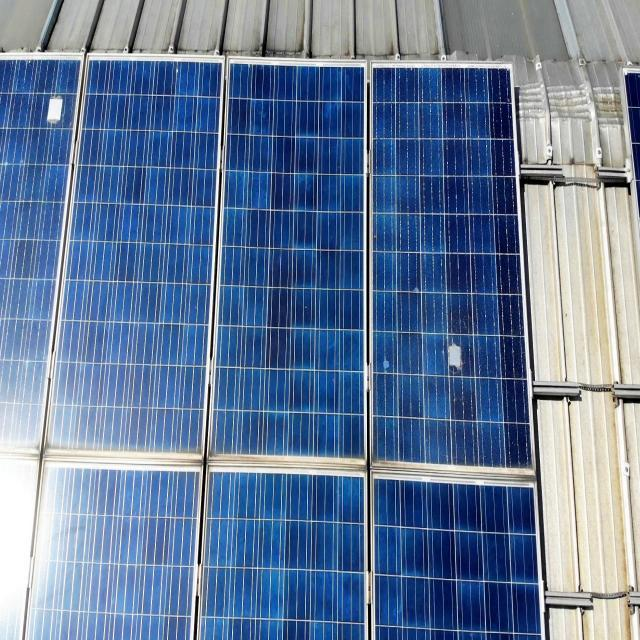faulty: (367, 64, 536, 477), (0, 54, 82, 150)
no faulty: (28, 459, 536, 636), (41, 56, 226, 456), (208, 52, 372, 471)
